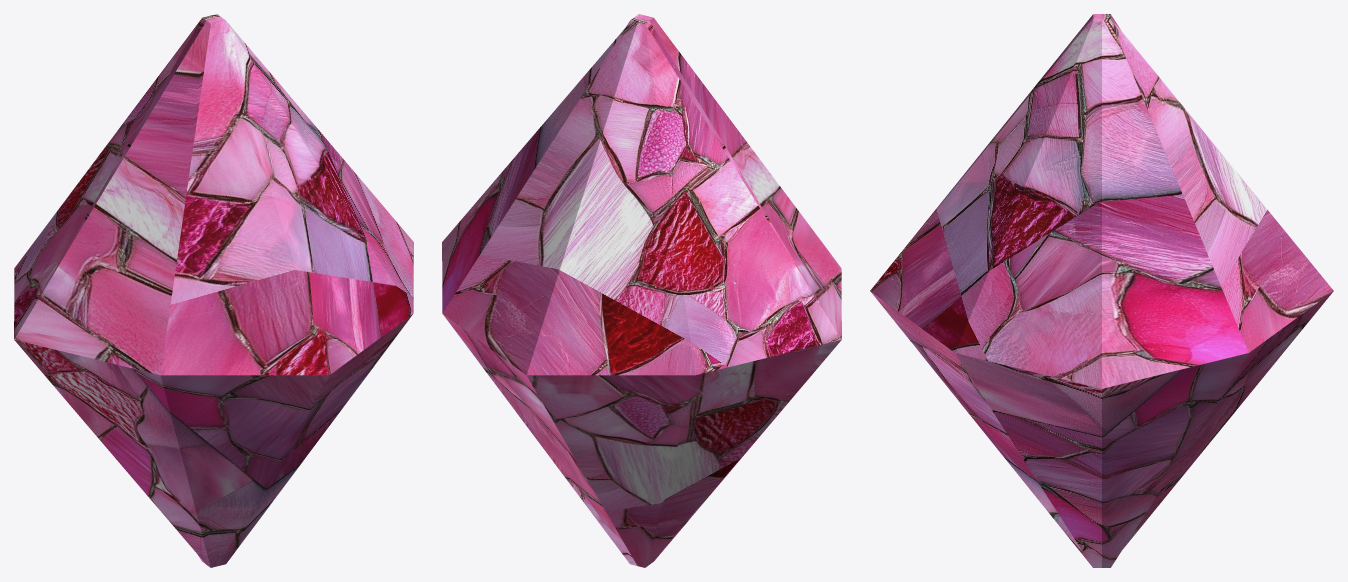
The model's file is gemstone2PinkCompressed.glb.
3 views of the same model, side by side, from view 1: azimuth 30°, elevation 25°; view 2: azimuth 150°, elevation 25°; view 3: azimuth 270°, elevation 25° (orthographic).
Visible parts, largest first — view 1: gemstone1; view 2: gemstone1; view 3: gemstone1.
Boxes of the visible parts, x1,y1,x2,y2 form: gemstone1: (14,14,413,567); gemstone1: (442,14,841,567); gemstone1: (870,14,1333,567).
Bounding box in the file's own units: 1 × 1.3 × 1.
Materials: 1 (1 with a texture image).
